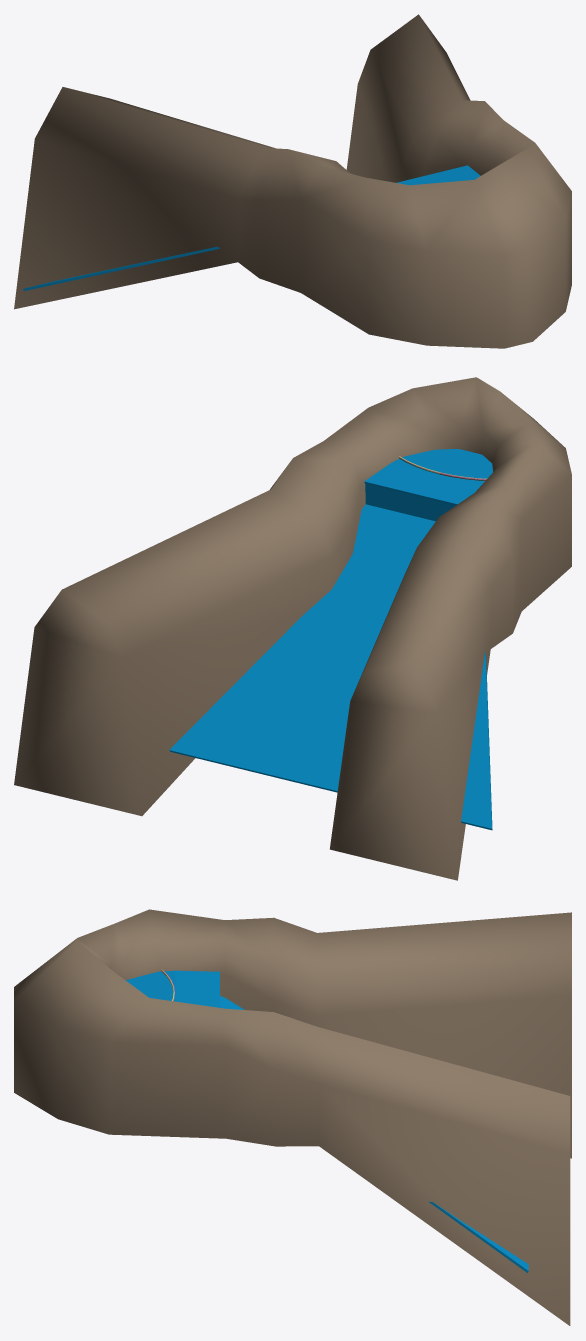
File: IFF_landscape.fbx
3 renders of one model, top to bottom at view 1: azimuth 30°, elevation 25°; view 2: azimuth 150°, elevation 25°; view 3: azimuth 270°, elevation 25°, orthographic.
Parts seen in each view (by area): view 1: MountainCircus, GroundSlope, Ground.001; view 2: MountainCircus, Ground.001, GroundSlope, GroundFlat, Ground.002; view 3: MountainCircus, GroundSlope, GroundFlat, Ground.001.
Part boxes in pixels (box(x1,y1,x2,y2)): MountainCircus: box(14, 14, 571, 348); GroundSlope: box(396, 165, 480, 185); Ground.001: box(23, 246, 219, 290); MountainCircus: box(14, 377, 571, 880); Ground.001: box(169, 504, 492, 830); GroundSlope: box(364, 463, 481, 505); GroundFlat: box(391, 449, 492, 484); Ground.002: box(365, 483, 455, 521); MountainCircus: box(14, 909, 571, 1325); GroundSlope: box(175, 970, 219, 1007); GroundFlat: box(126, 970, 175, 1001); Ground.001: box(220, 996, 528, 1272).
Size of the model in its own units: 19961 by 21101 by 11687.
